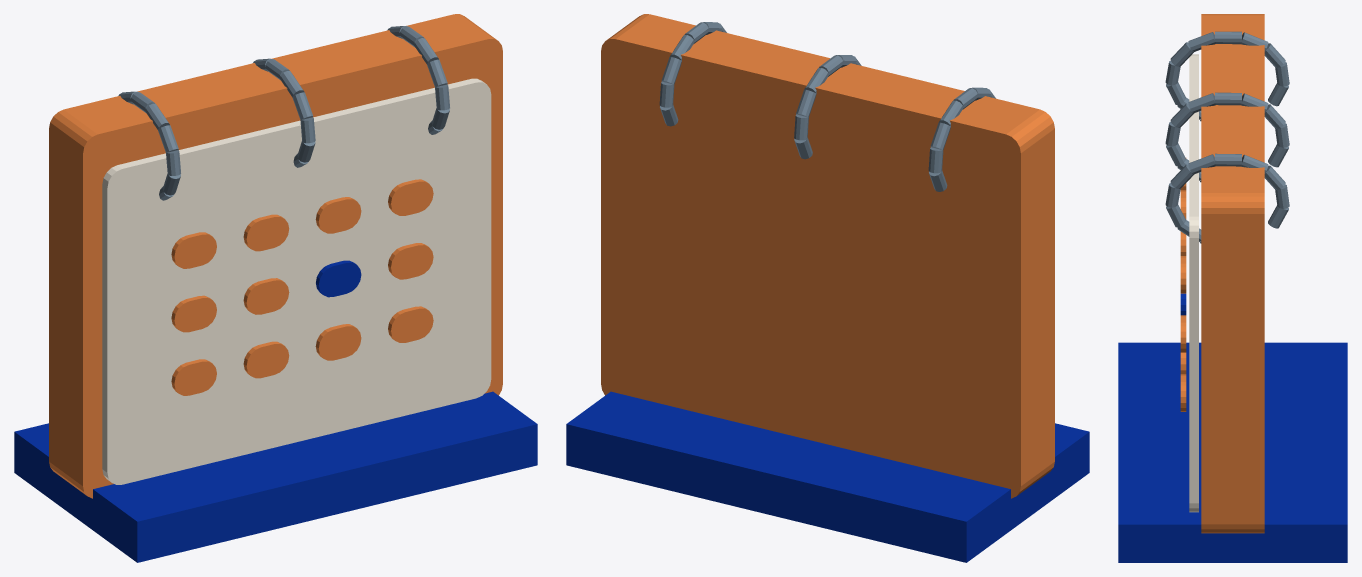
The model's file is deskcalendar.glb.
3 views of the same model, side by side, from view 1: azimuth 30°, elevation 25°; view 2: azimuth 150°, elevation 25°; view 3: azimuth 270°, elevation 25° (orthographic). The views are drawn at different scales.
Parts seen in each view (by area): view 1: calendar page, binding board, rear foot, day 1, day 9, day 4, marked date, day 3, day 5, day 11, day 0, day 7 (+3 smaller); view 2: binding board, rear foot; view 3: rear foot, binding board, calendar page, loop16, loop06, loop26, loop15, loop25, loop05, loop04, loop14, loop24 (+3 smaller).
Part boxes in pixels (x1,y1,x2,y2): calendar page: (102,78,491,484); binding board: (49,14,502,498); rear foot: (14,391,537,562); day 1: (243,214,289,251); day 9: (243,341,289,378); day 4: (171,295,216,332); marked date: (316,260,361,297); day 3: (388,179,433,215); day 5: (243,278,289,314); day 11: (388,306,433,342); day 0: (171,232,216,268); day 7: (388,243,433,279); binding board: (601,14,1054,498); rear foot: (566,391,1089,562); rear foot: (1118,342,1347,562); binding board: (1201,14,1264,533); calendar page: (1189,54,1198,512); loop16: (1215,92,1241,105); loop06: (1215,31,1241,44); loop26: (1215,153,1241,166); loop15: (1188,93,1215,113); loop25: (1188,154,1215,174); loop05: (1188,32,1215,52); loop04: (1170,42,1193,66); loop14: (1170,103,1193,127); loop24: (1170,164,1193,188).
Size of the model in its own units: 1.28 by 1.18 by 0.65.
